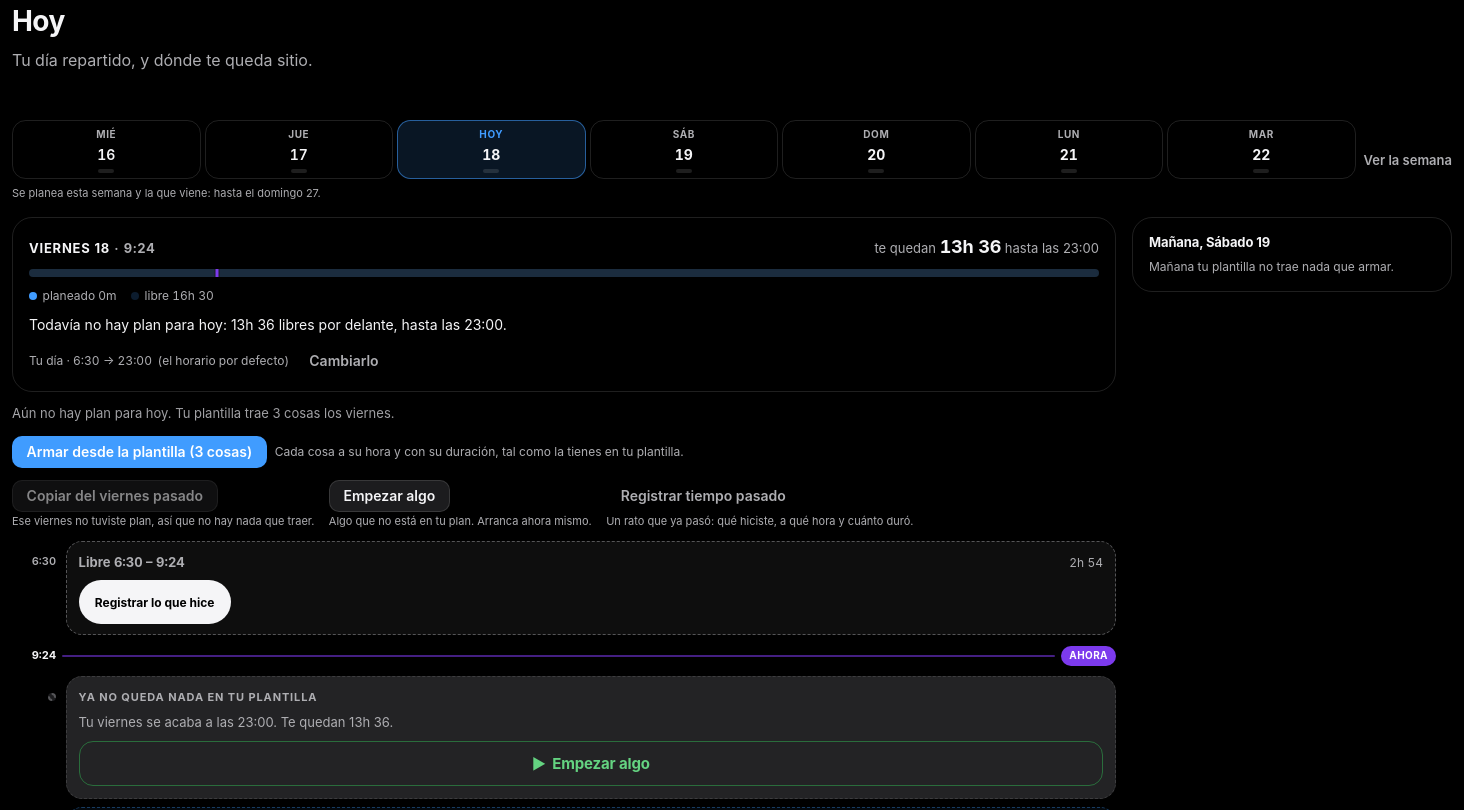
Test: VidaHoyPage — hoy sin plan › al armar, el aviso de lo ajustado se lee en la agenda con la vía al catálogo (43 y 44)
The width and height of the screenshot is (1464, 810).
Step 1. Click the button "Armar desde la plantilla (3 cosas)" → x=139, y=452, box [12,436,267,468]
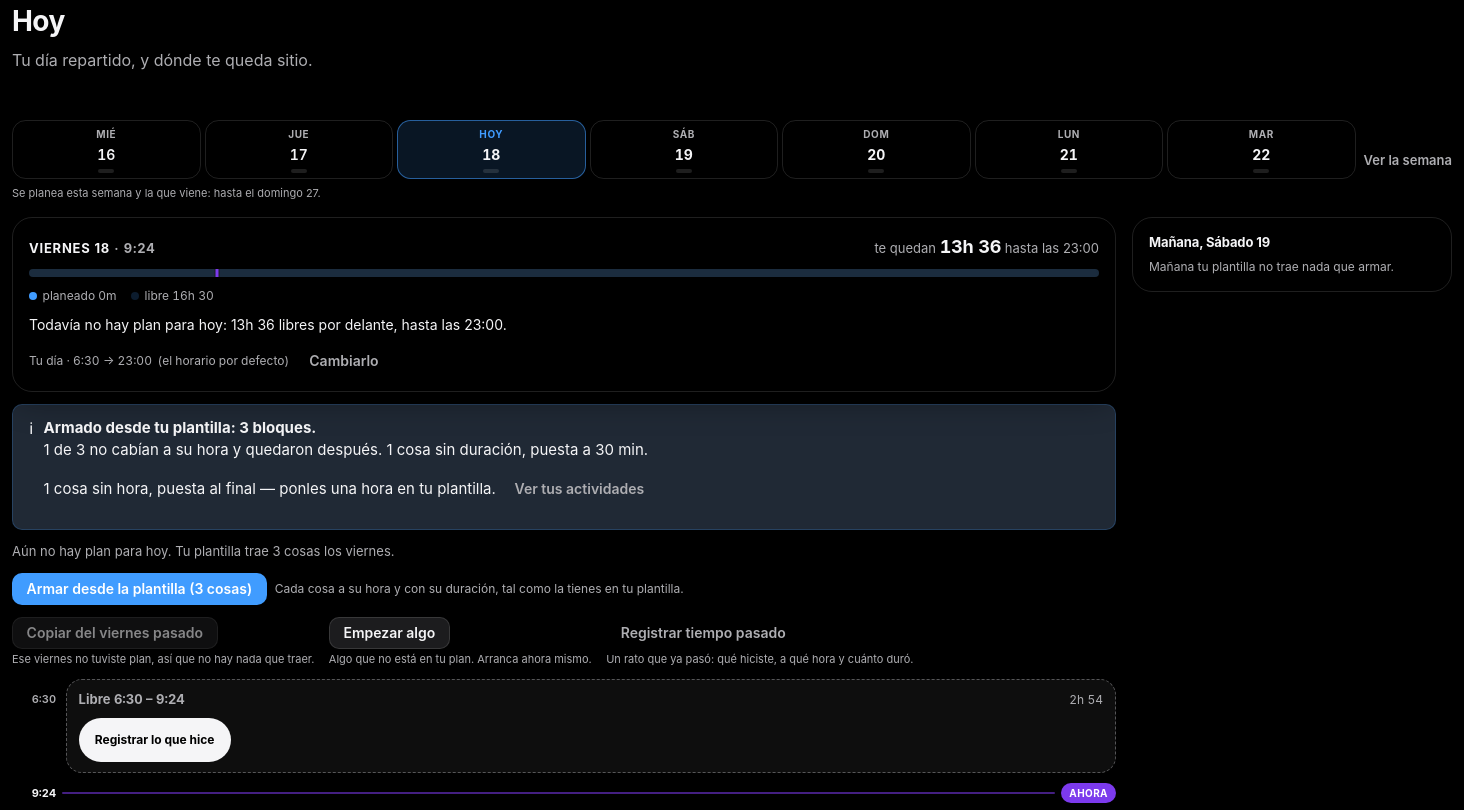
Now the text "1 de 3 no cabían a su hora y quedaron después" is shown, box [44,440,648,459]
Now the text "1 cosa sin hora, puesta al final — ponles una hora en tu plantilla" is shown, box [44,478,496,498]
